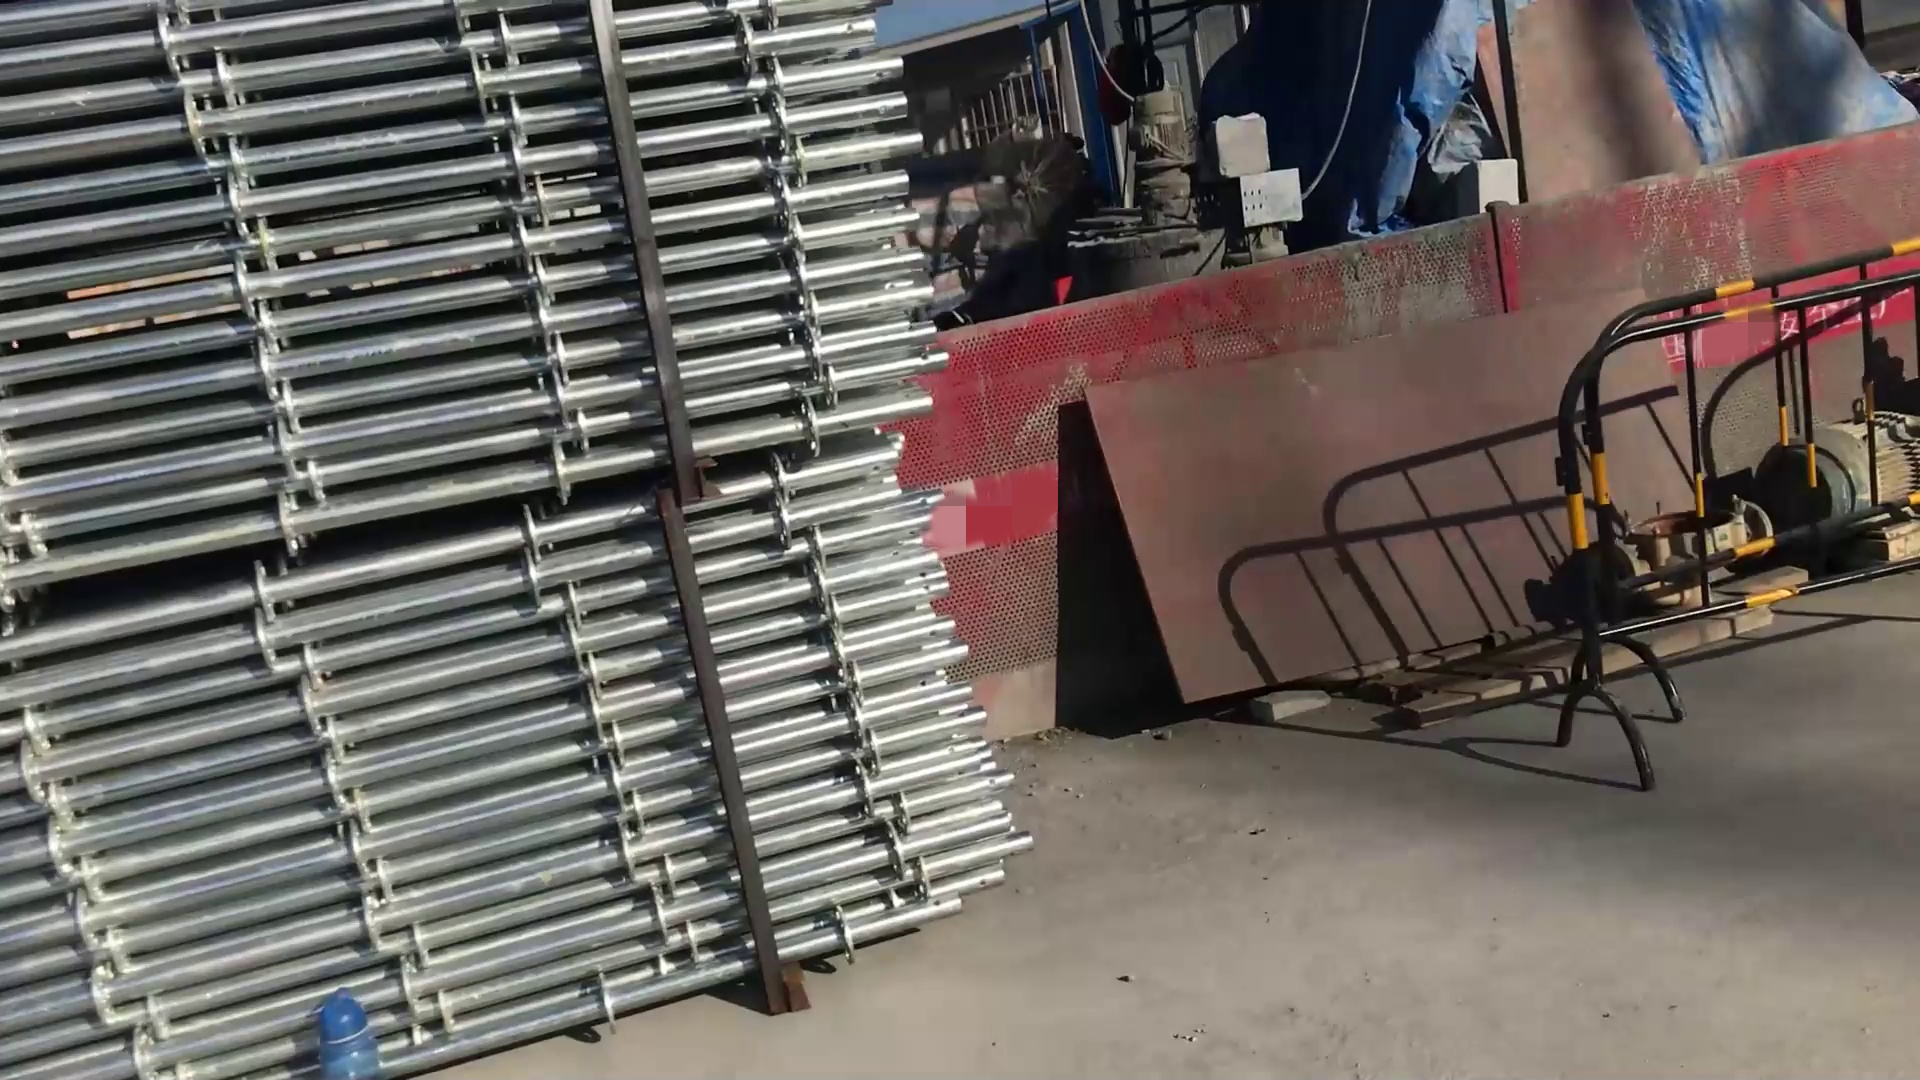fence: (920, 229, 1578, 738), (1547, 229, 1920, 793)
scaffold: (3, 8, 1040, 1011)
